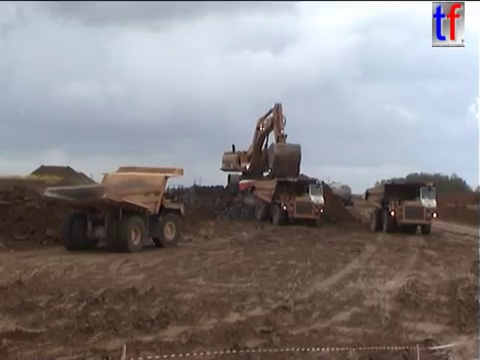excavator: (216, 100, 314, 199), (224, 174, 303, 203)
truck: (42, 164, 184, 253), (360, 179, 438, 236), (249, 176, 326, 227), (317, 179, 355, 208)
